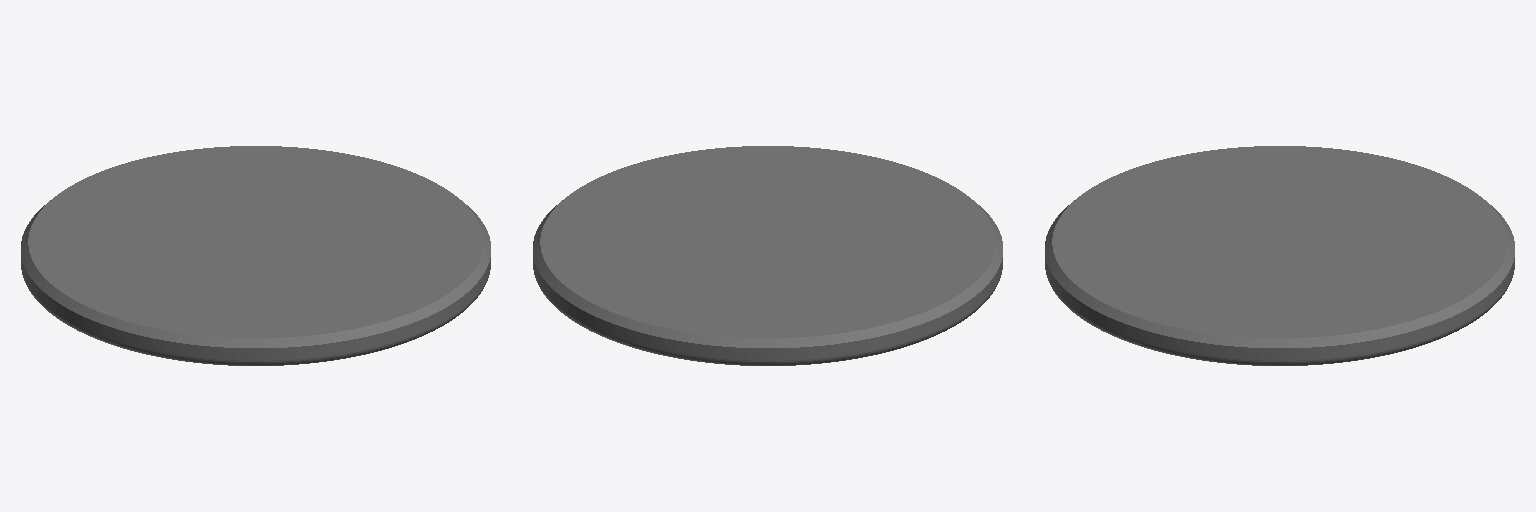
File: perot_stand_base.obj
3 renders of one model, left to right at view 1: azimuth 30°, elevation 25°; view 2: azimuth 150°, elevation 25°; view 3: azimuth 270°, elevation 25°, orthographic.
Parts seen in each view (by area): view 1: mesh; view 2: mesh; view 3: mesh.
Part boxes in pixels (x1,y1,x2,y2): mesh: (21, 146, 490, 365); mesh: (533, 146, 1002, 365); mesh: (1045, 146, 1514, 365).
Bounding box in the file's own units: 123 × 8.05 × 123.